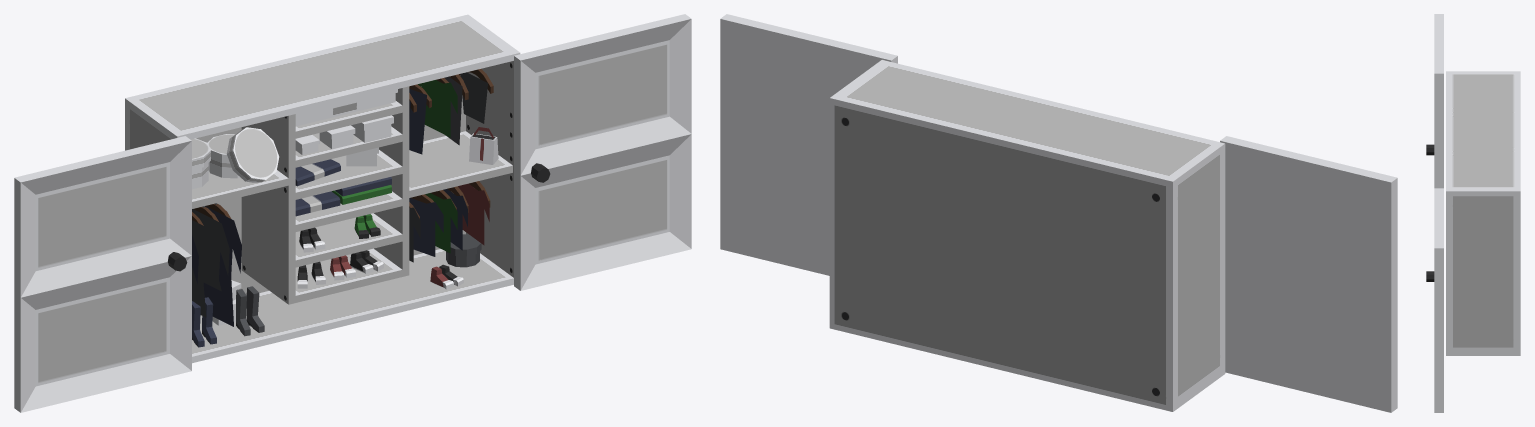
Rendered from Closet and clothes.glb.
3 renders of one model, left to right at view 1: azimuth 30°, elevation 25°; view 2: azimuth 150°, elevation 25°; view 3: azimuth 270°, elevation 25°, orthographic. The views are drawn at different scales.
Parts seen in each view (by area): view 1: Closet, Door1, Door, Clothes1, Box1, Clothes, Hangers, Box2, Boots1, Bag, Boots, Box6 (+3 smaller); view 2: Closet, Door1, Door; view 3: Closet, Door, Door1.
Boxes of the visible parts, <box> form: Closet: <box>125,14,520,363</box>; Door1: <box>14,136,191,412</box>; Door: <box>514,14,691,290</box>; Clothes1: <box>192,72,489,326</box>; Box1: <box>207,127,279,182</box>; Clothes: <box>295,159,391,216</box>; Hangers: <box>192,69,493,225</box>; Box2: <box>295,89,397,126</box>; Boots1: <box>236,286,264,336</box>; Bag: <box>469,127,498,164</box>; Boots: <box>192,297,216,347</box>; Box6: <box>446,234,481,267</box>; Closet: <box>829,60,1225,411</box>; Door1: <box>1220,136,1397,412</box>; Door: <box>720,14,897,275</box>; Closet: <box>1446,71,1520,355</box>; Door: <box>1426,188,1443,412</box>; Door1: <box>1426,14,1443,188</box>.
Bounding box in the file's own units: 1090 × 358 × 186.
Materials: 1 (1 with a texture image).
